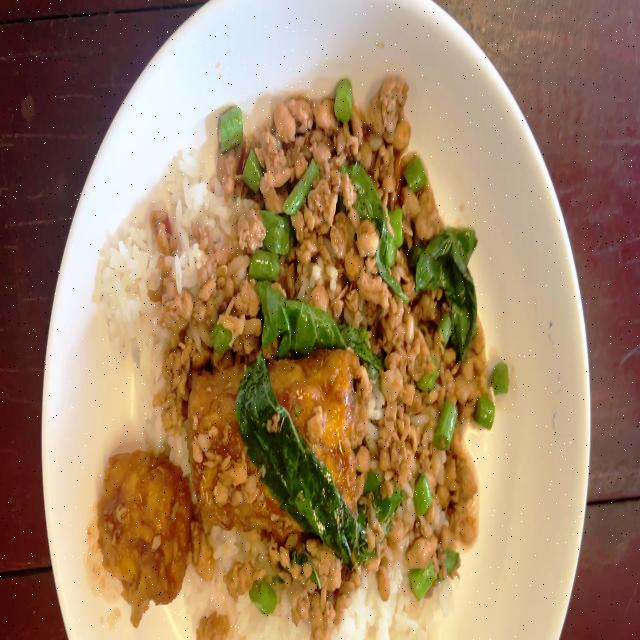fried_tofo: (192, 365, 352, 521), (105, 459, 185, 589)
minced_pork: (219, 82, 494, 363), (360, 358, 494, 584), (216, 518, 374, 622)
rice: (100, 140, 210, 328), (354, 582, 436, 640)
stir_fried_basil: (99, 75, 494, 640)
